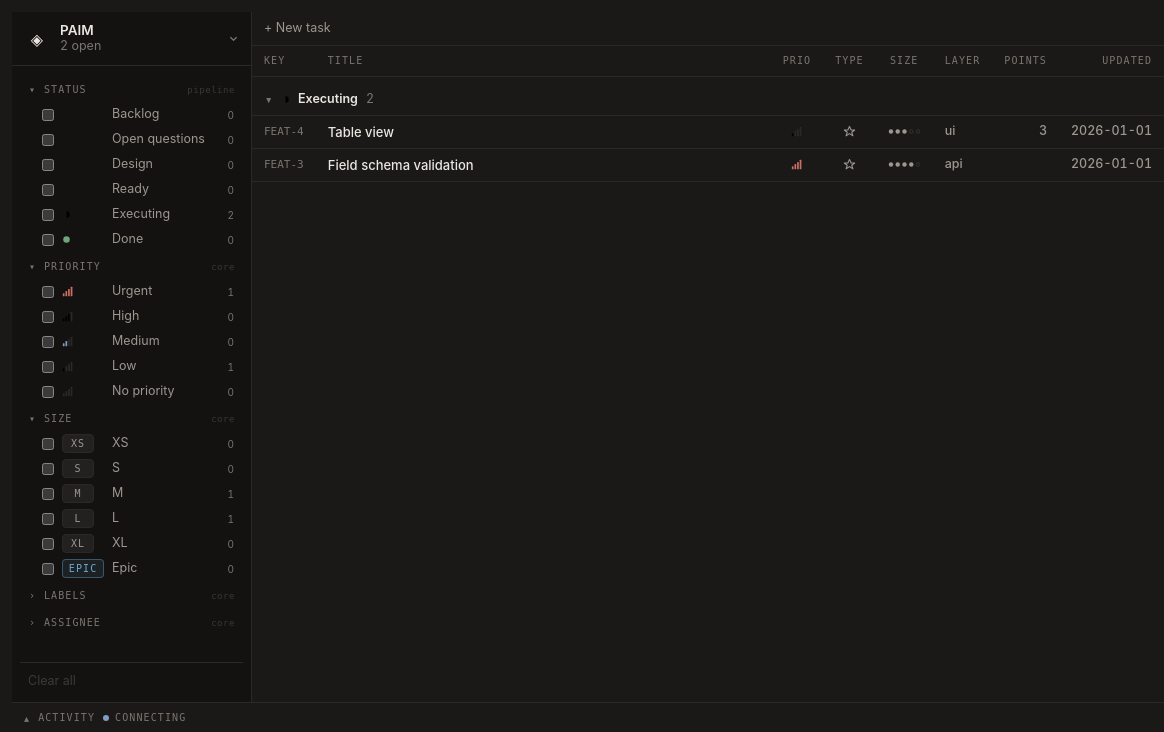
Test: opening a cell › opens from a click anywhere in the cell, not on the word alone
Step 1. Click the cell named "Medium" → (904, 132), box 876,115 -> 933,148
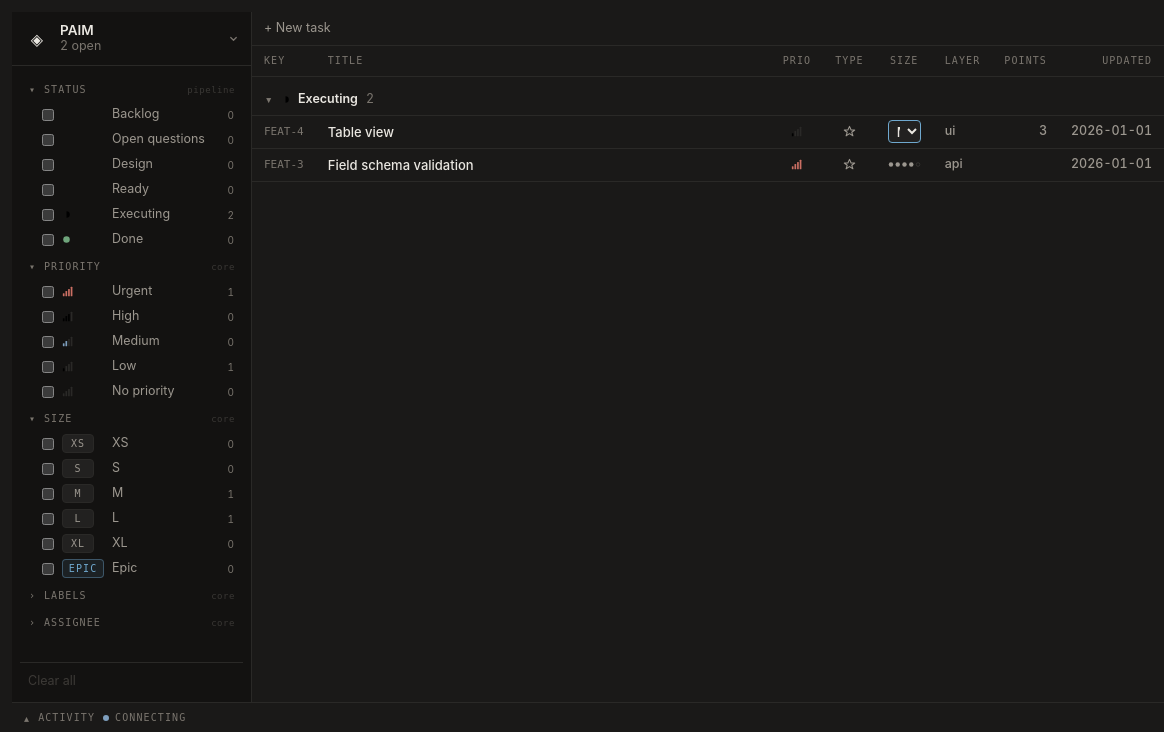
Now the dropdown named "Size of FEAT-4" is shown, box 888,120 -> 921,143
